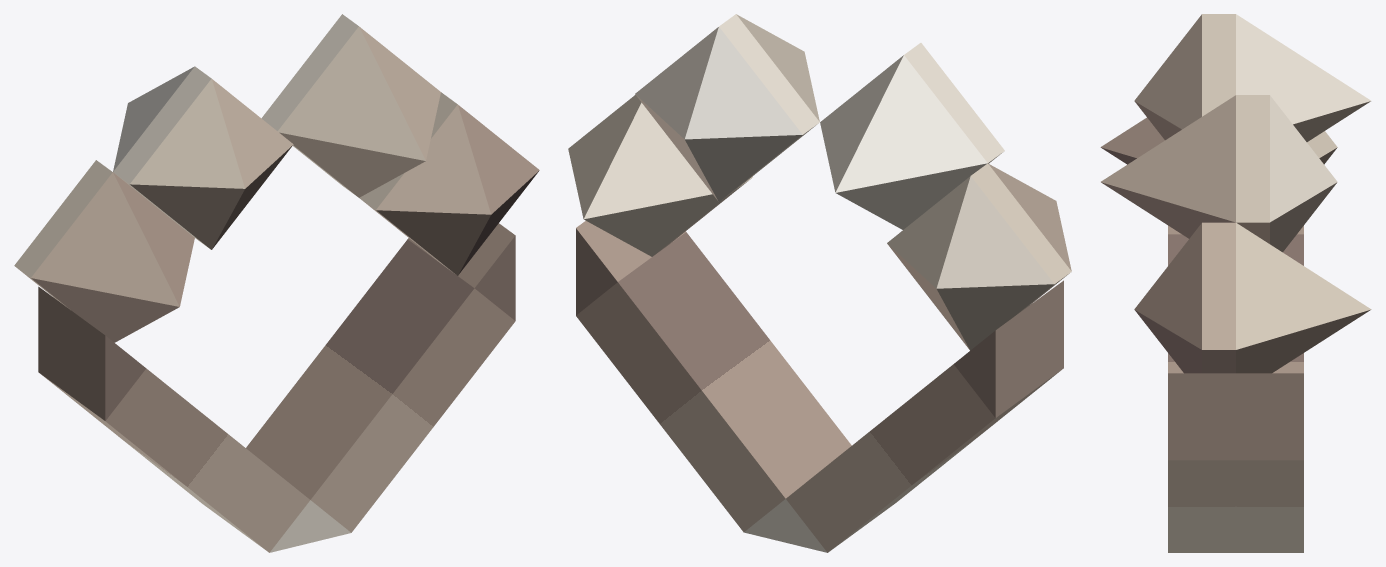
File: ring_brittlebone.obj
The picture shows the model from 3 angles, left to right: view 1: azimuth 30°, elevation 25°; view 2: azimuth 150°, elevation 25°; view 3: azimuth 270°, elevation 25°; orthographic projection. The views are drawn at different scales.
Visible parts, largest first — view 1: RING_FULL_BRITTLEBONE_Cube.004; view 2: RING_FULL_BRITTLEBONE_Cube.004; view 3: RING_FULL_BRITTLEBONE_Cube.004.
Part boxes in pixels (<box>): RING_FULL_BRITTLEBONE_Cube.004: <box>14,14,539,552</box>; RING_FULL_BRITTLEBONE_Cube.004: <box>568,14,1071,552</box>; RING_FULL_BRITTLEBONE_Cube.004: <box>1100,14,1371,552</box>.
Size of the model in its own units: 0.2652 by 0.2431 by 0.125.
